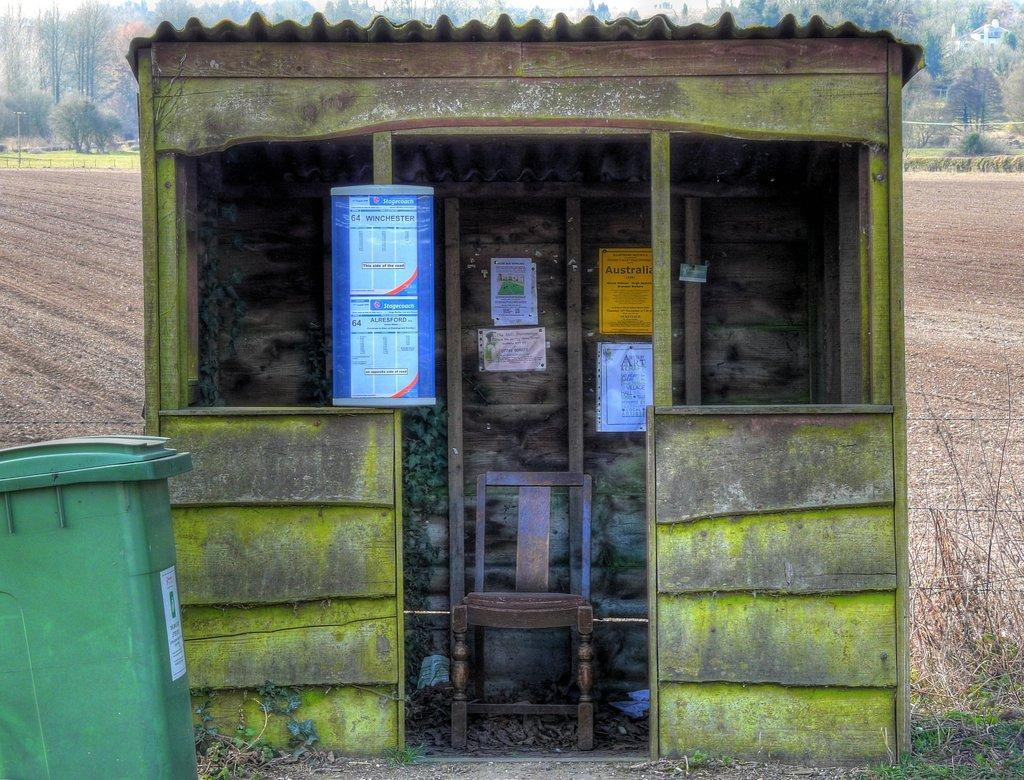Chair: (453, 469, 595, 752)
